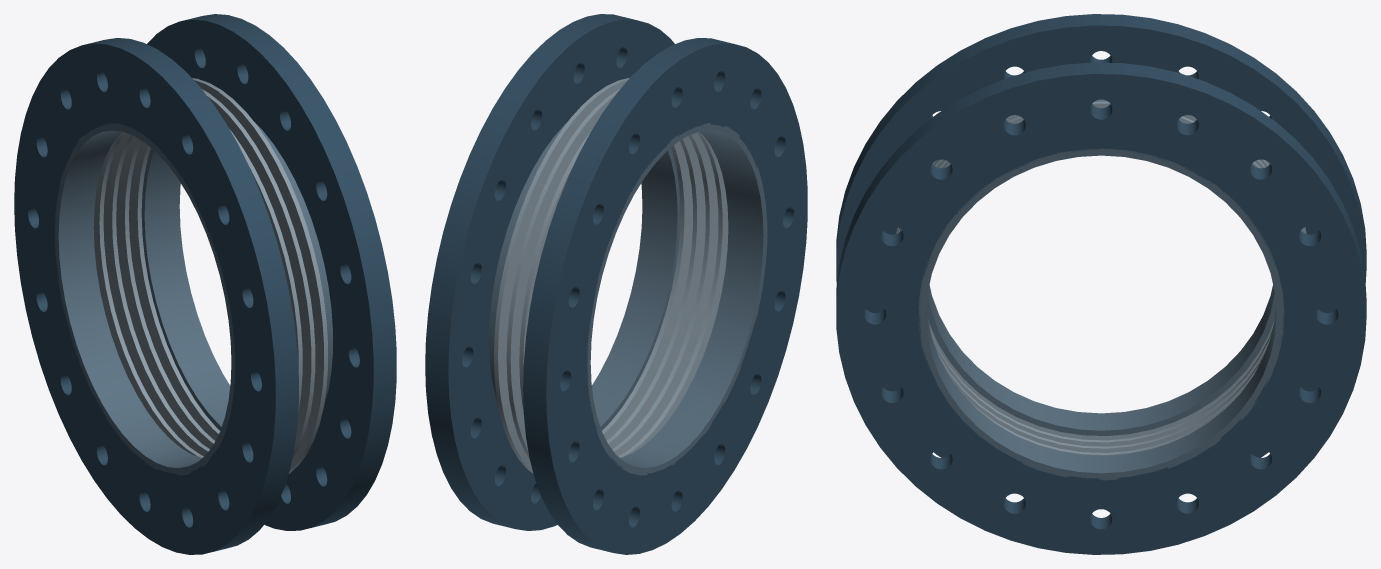
File: flan-dn400-L165-D426-f.glb
3 renders of one model, left to right at view 1: azimuth 30°, elevation 25°; view 2: azimuth 150°, elevation 25°; view 3: azimuth 270°, elevation 25°, orthographic.
Parts seen in each view (by area): view 1: homut_flanec_1, homut_flanec_2, prokladka_silfon_1, patrubok_1, patrubok_2; view 2: homut_flanec_1, homut_flanec_2, prokladka_silfon_1, patrubok_1, patrubok_2; view 3: homut_flanec_2, homut_flanec_1, patrubok_2, patrubok_1, prokladka_silfon_1.
Boxes of the visible parts, x1,y1,x2,y2 form: homut_flanec_1: [14, 38, 298, 554]; homut_flanec_2: [147, 14, 396, 530]; prokladka_silfon_1: [93, 78, 327, 473]; patrubok_1: [54, 123, 234, 475]; patrubok_2: [141, 123, 332, 430]; homut_flanec_1: [523, 38, 807, 554]; homut_flanec_2: [425, 14, 674, 530]; prokladka_silfon_1: [494, 77, 728, 473]; patrubok_1: [587, 123, 767, 475]; patrubok_2: [489, 122, 680, 430]; homut_flanec_2: [836, 62, 1366, 554]; homut_flanec_1: [836, 14, 1366, 494]; patrubok_2: [918, 148, 1284, 480]; patrubok_1: [926, 285, 1275, 435]; prokladka_silfon_1: [896, 99, 1306, 455].
Bounding box in the file's own units: 165 × 617 × 617.
